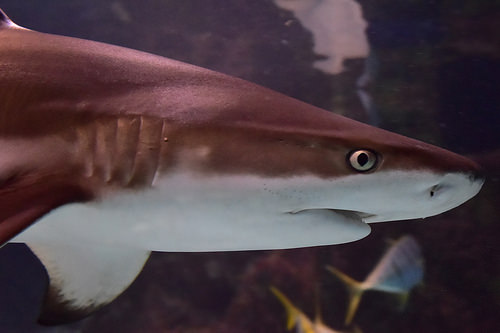shark: (4, 2, 488, 321)
